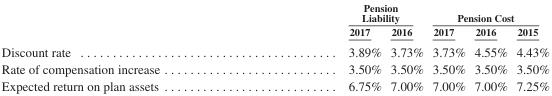table: (0, 1, 549, 92)
table column: (0, 1, 253, 92), (253, 1, 385, 92), (385, 1, 427, 92), (427, 1, 469, 92), (469, 1, 511, 92), (511, 1, 549, 92)
table column header: (0, 1, 549, 41)
table row: (0, 1, 549, 24), (0, 41, 549, 60), (0, 24, 549, 41), (0, 60, 549, 76), (0, 76, 549, 92)
table spanning cell: (253, 1, 427, 24), (427, 1, 549, 24)
